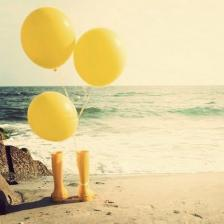yellow: (21, 7, 126, 87), (21, 7, 76, 69), (27, 92, 78, 141), (77, 151, 95, 202), (51, 152, 68, 202)
